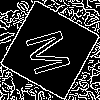M: (25, 25, 80, 78)
